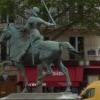Statue: (4, 7, 74, 83)
